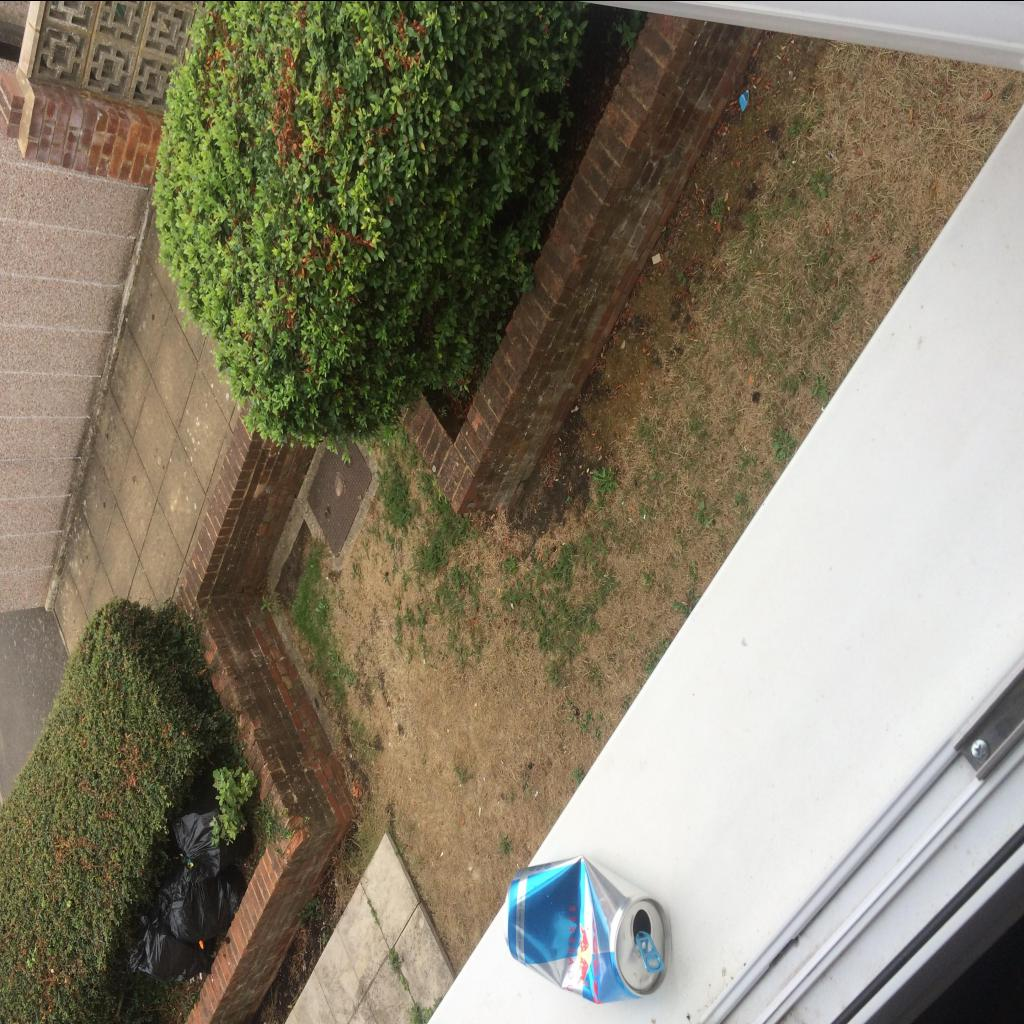Drink can: (504, 853, 672, 1003)
Garbage bag: (157, 862, 247, 941), (170, 798, 254, 882), (130, 901, 216, 981)
Pop tab: (635, 930, 664, 972)
